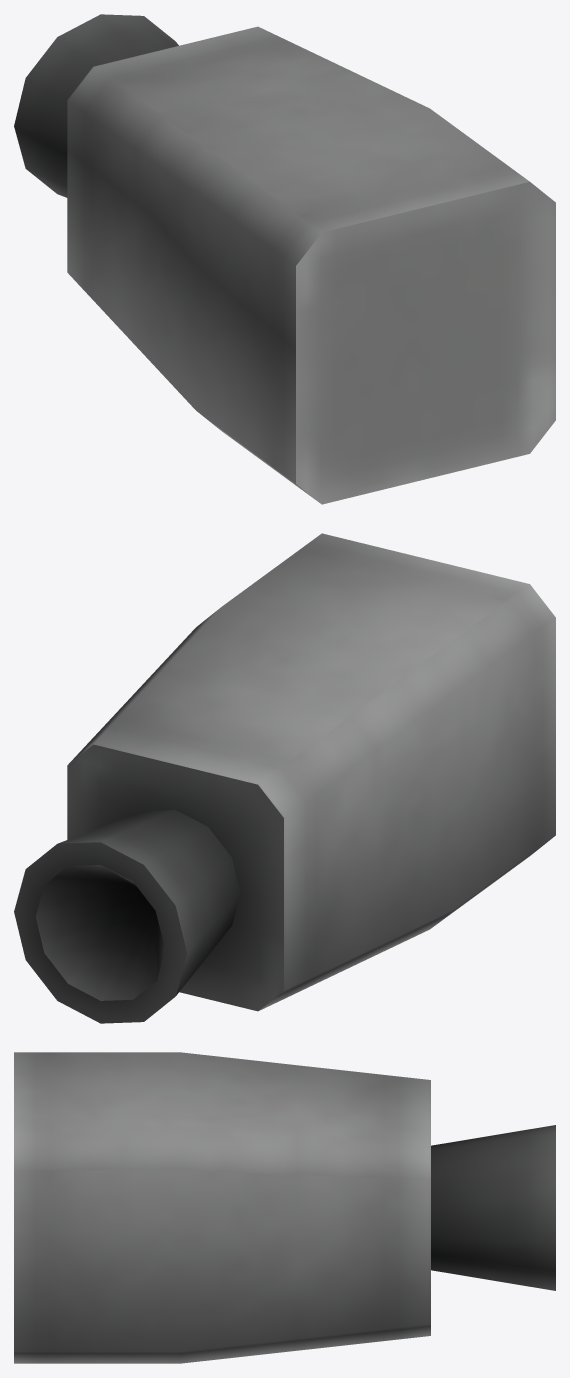
The model's file is octans_rcs_linear_srf_1.obj.
3 renders of one model, top to bottom at view 1: azimuth 30°, elevation 25°; view 2: azimuth 150°, elevation 25°; view 3: azimuth 270°, elevation 25°, orthographic. The views are drawn at different scales.
Parts seen in each view (by area): view 1: mesh; view 2: mesh; view 3: mesh.
Part boxes in pixels (x1,y1,x2,y2): mesh: (14, 14, 555, 504); mesh: (14, 533, 555, 1023); mesh: (14, 1052, 555, 1363).
Bounding box in the file's own units: 0.075 × 0.075 × 0.1625.
Materials: 1 (1 with a texture image).
